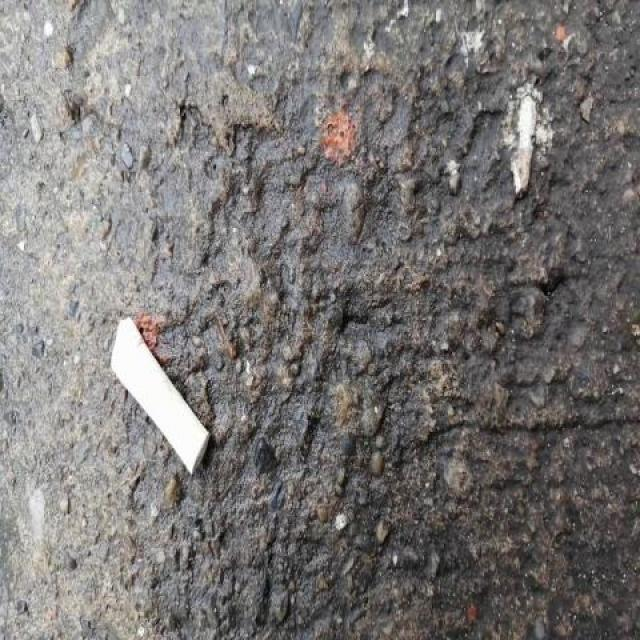non-organic waste: (107, 311, 213, 478)
